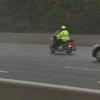Motorcycle: (41, 28, 77, 60)
